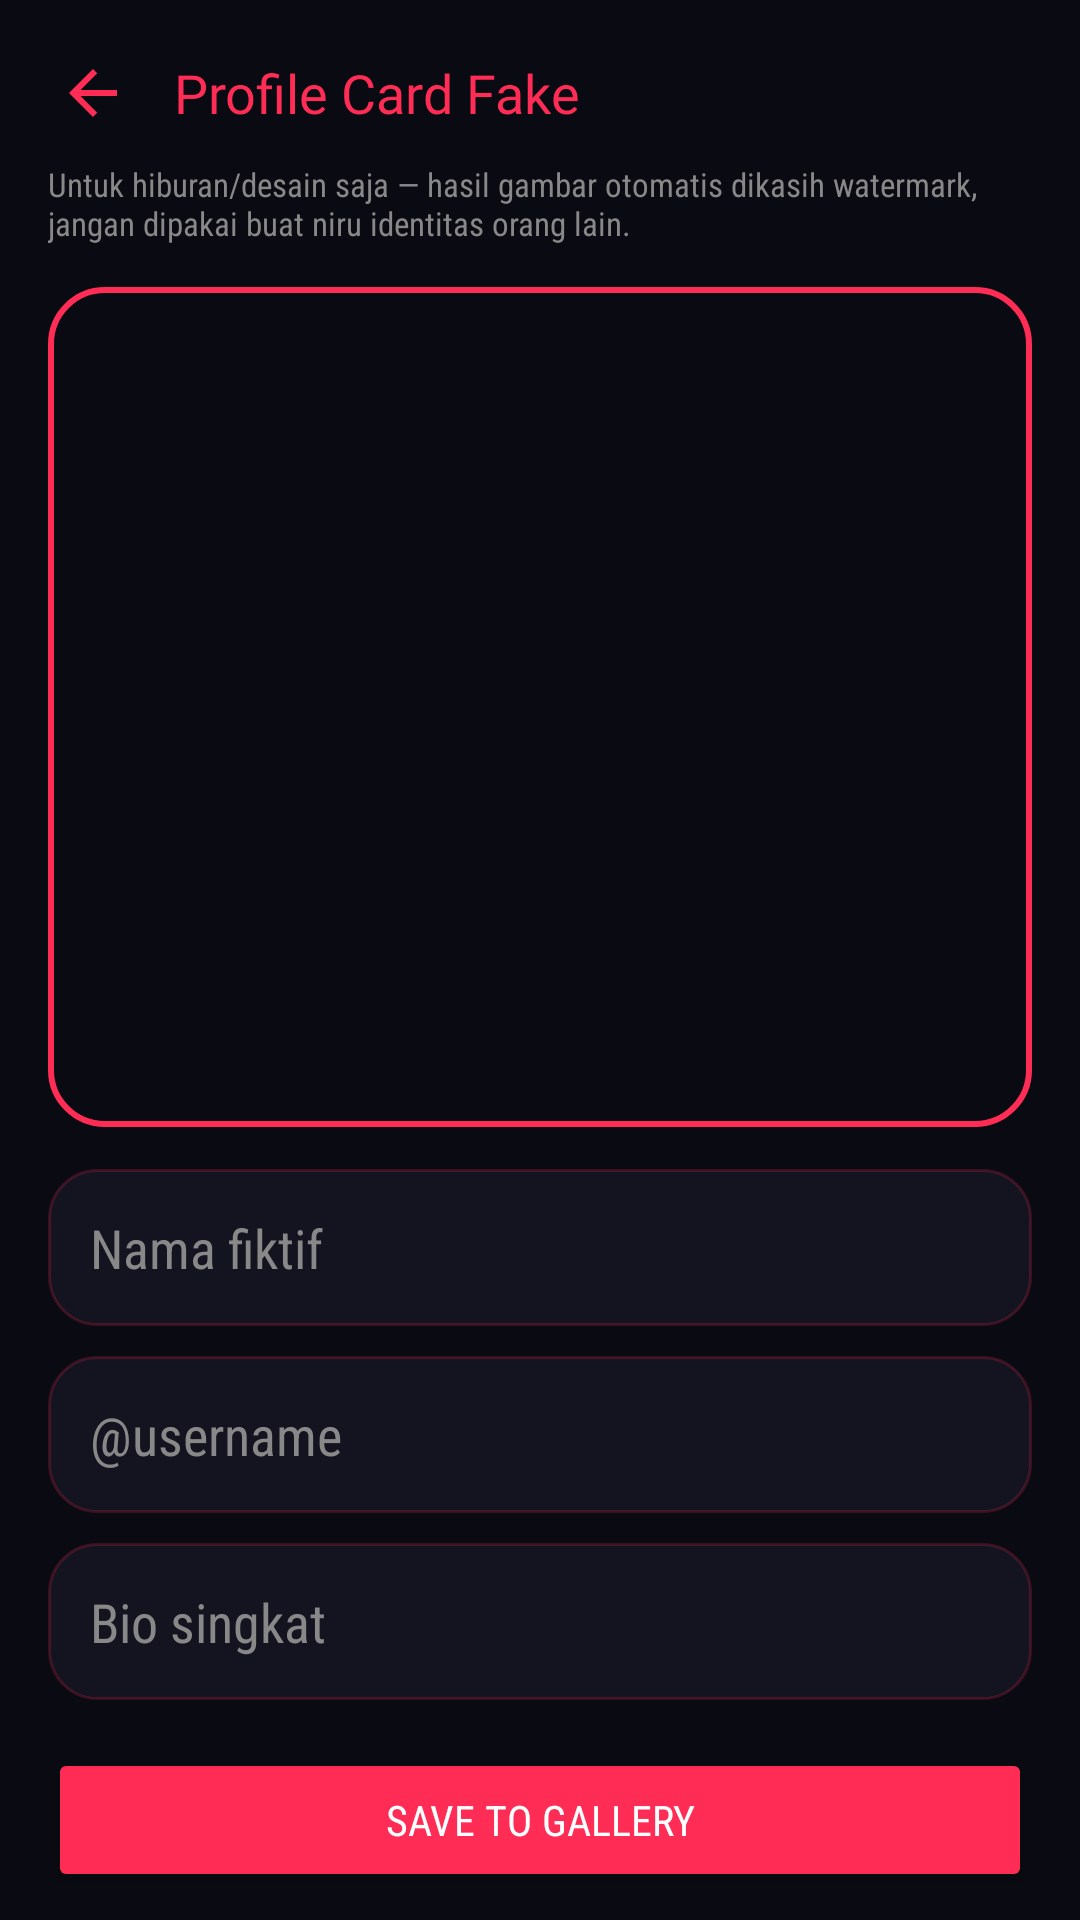

Icon bounding boxes for this 1080*1920 phone screenshot, format (x1, y1, x2, y2):
Back: (69, 69, 117, 117)
